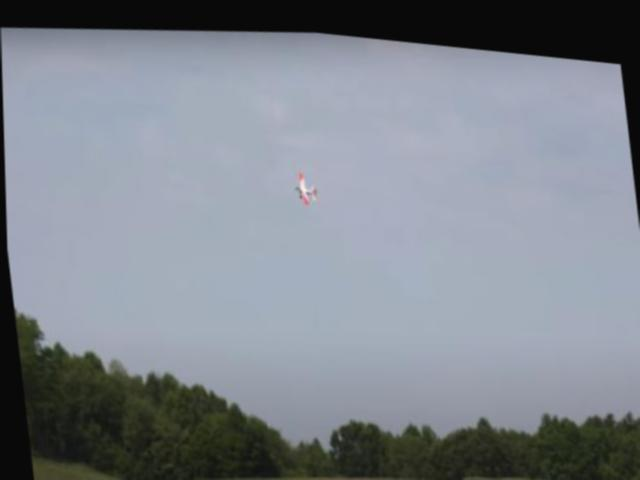uav: (288, 155, 322, 209)
